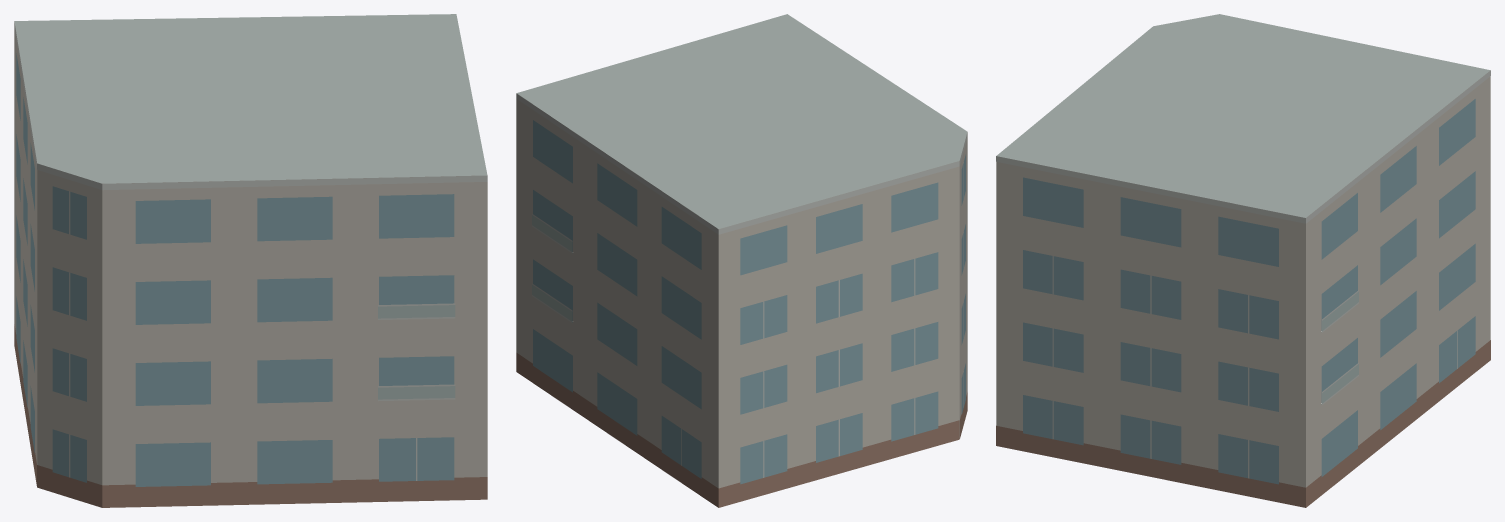
File: survey-upis-32670890.glb
The picture shows the model from 3 angles, left to right: view 1: azimuth 30°, elevation 25°; view 2: azimuth 150°, elevation 25°; view 3: azimuth 270°, elevation 25°; orthographic projection. The views are drawn at different scales.
Parts seen in each view (by area): view 1: survey-upis-32670890.tmp; view 2: survey-upis-32670890.tmp; view 3: survey-upis-32670890.tmp.
Part boxes in pixels (bbox=[...]): survey-upis-32670890.tmp: bbox=[14, 14, 487, 507]; survey-upis-32670890.tmp: bbox=[516, 14, 967, 507]; survey-upis-32670890.tmp: bbox=[996, 14, 1490, 507].
Bounding box in the file's own units: 18.57 × 12.3 × 19.03.
